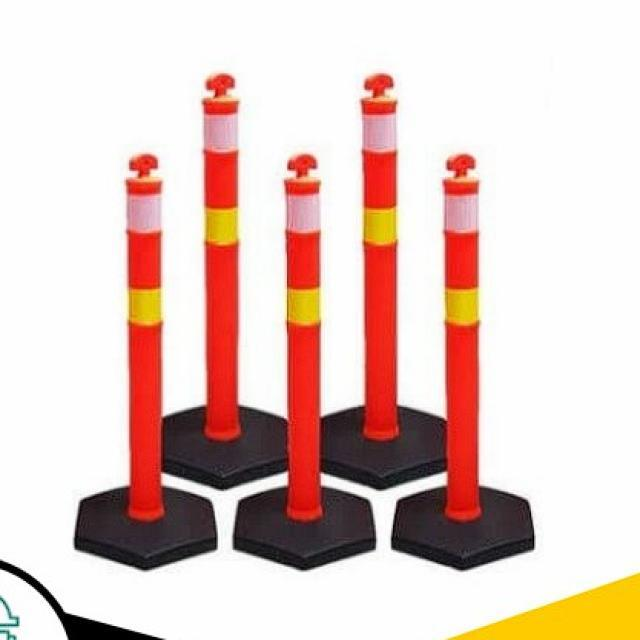obstacle: (197, 68, 246, 436), (438, 150, 486, 508), (280, 148, 326, 512), (357, 71, 403, 424), (124, 149, 166, 506)
